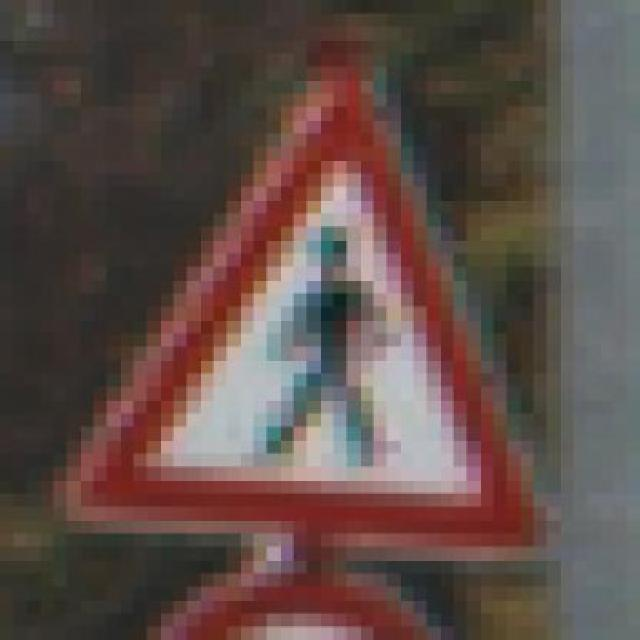Pedestrian Crossing: (53, 13, 573, 587)
